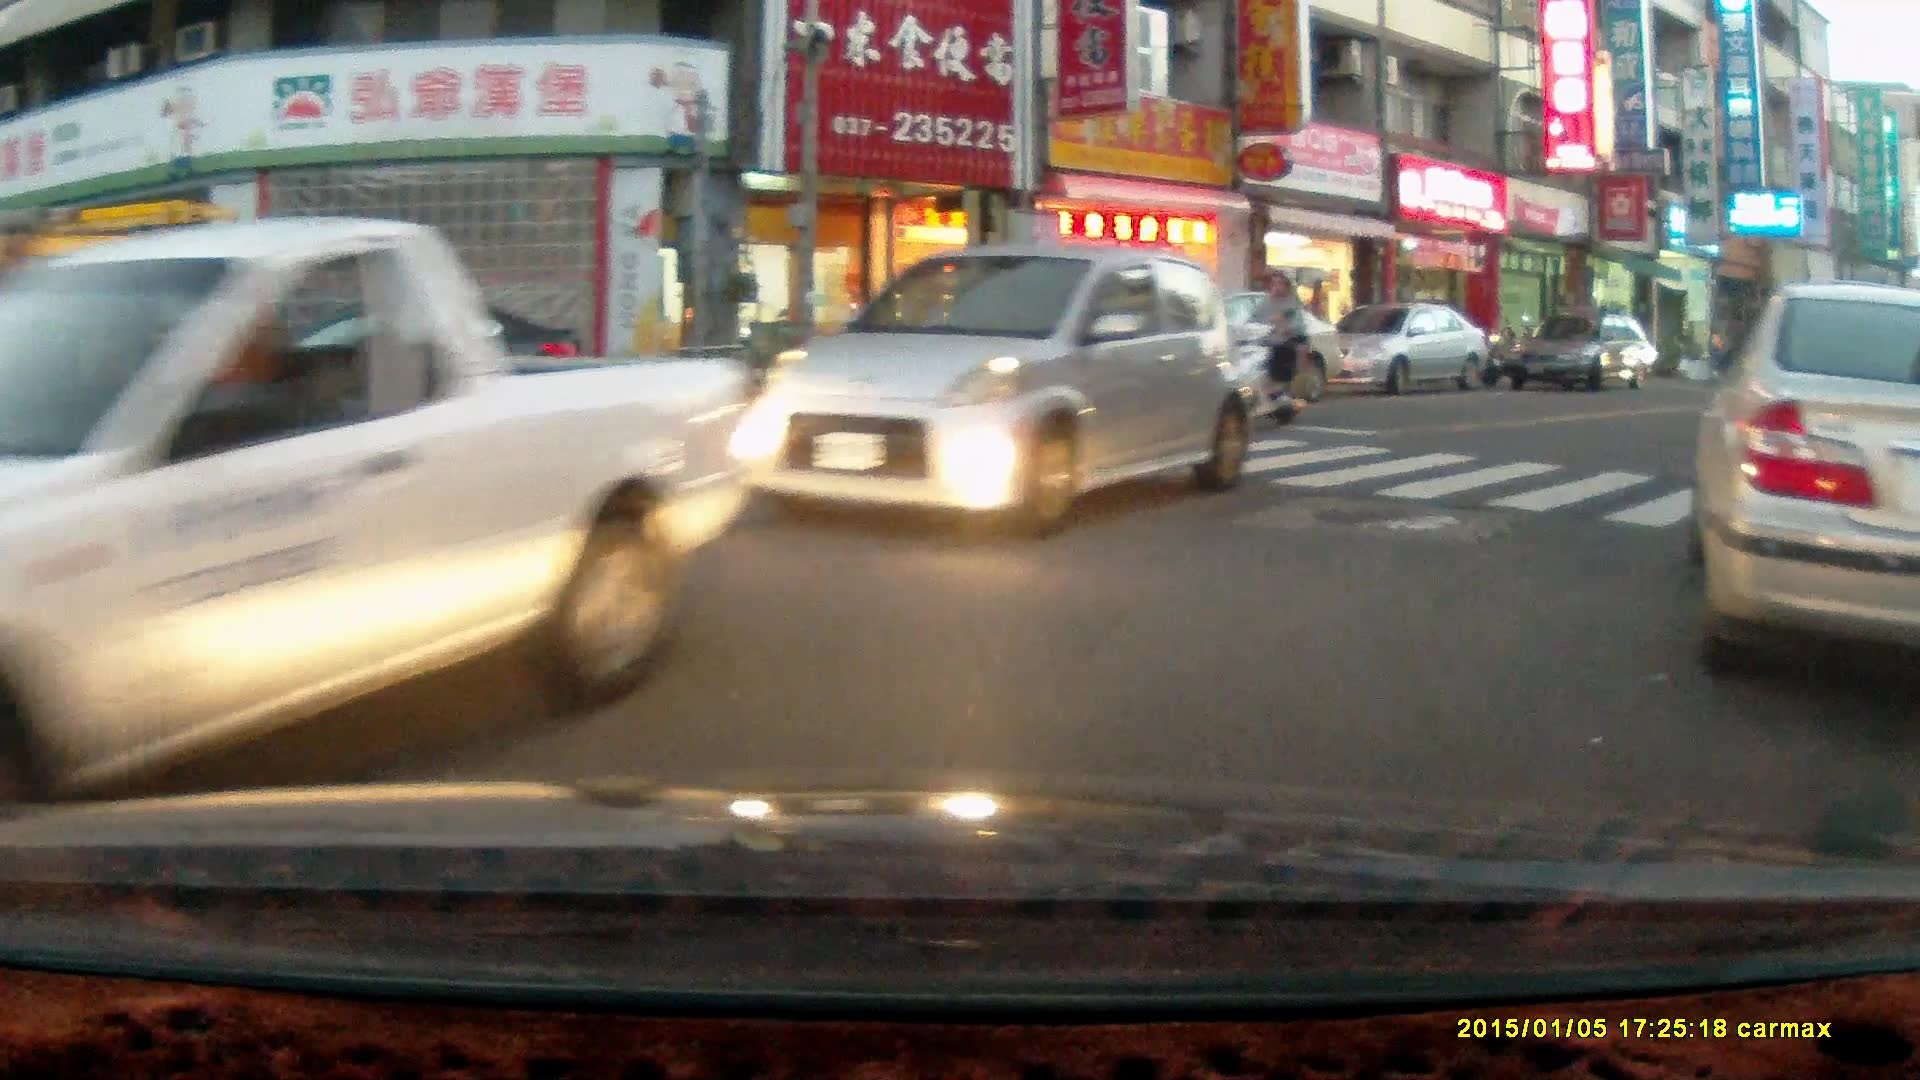rider: (1213, 261, 1309, 434)
vehicle: (2, 213, 763, 826), (727, 247, 1267, 534), (1691, 280, 1920, 700), (261, 291, 589, 440), (1321, 305, 1488, 395), (1504, 316, 1659, 392)
